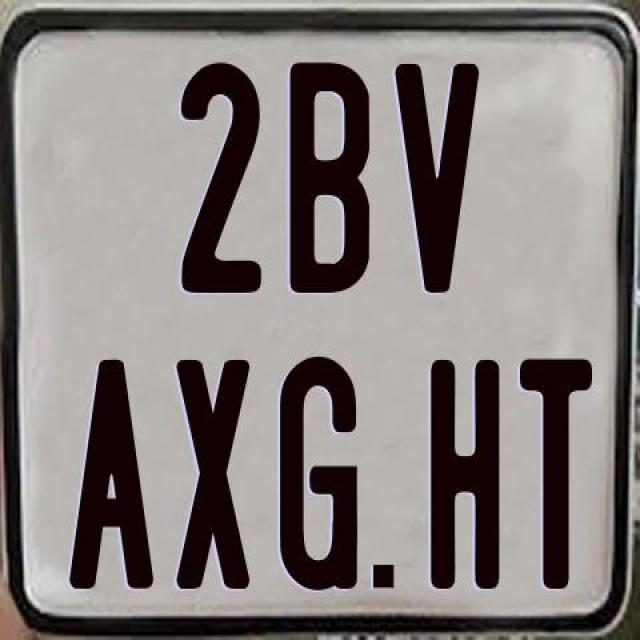2: (180, 60, 262, 298)
A: (65, 360, 152, 598)
B: (289, 61, 371, 293)
G: (276, 357, 362, 600)
H: (427, 358, 497, 597)
T: (517, 358, 596, 592)
V: (392, 64, 477, 293)
X: (172, 355, 254, 586)
